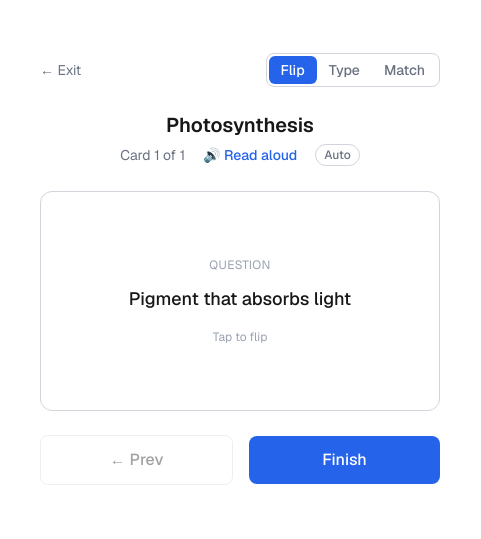
Test: saving study results (#57) › asks a signed-out visitor to sign in instead of saving
The image size is (481, 539).
Click the button "Question Pigment that absorbs light Tap to flip" at (240, 301), box [40,191,440,411]
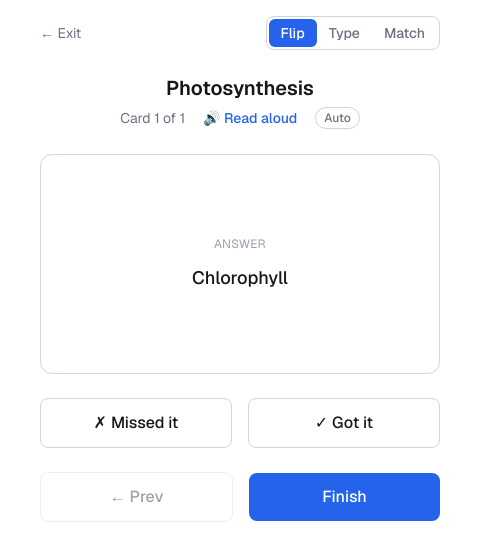
Click the button "✓ Got it" at (344, 423), box [248,398,440,448]
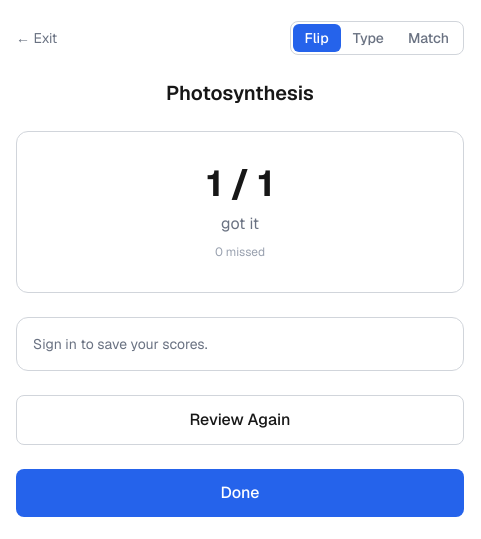
Expected: the message reads "Sign in to save your scores.", [33,335,208,353]
